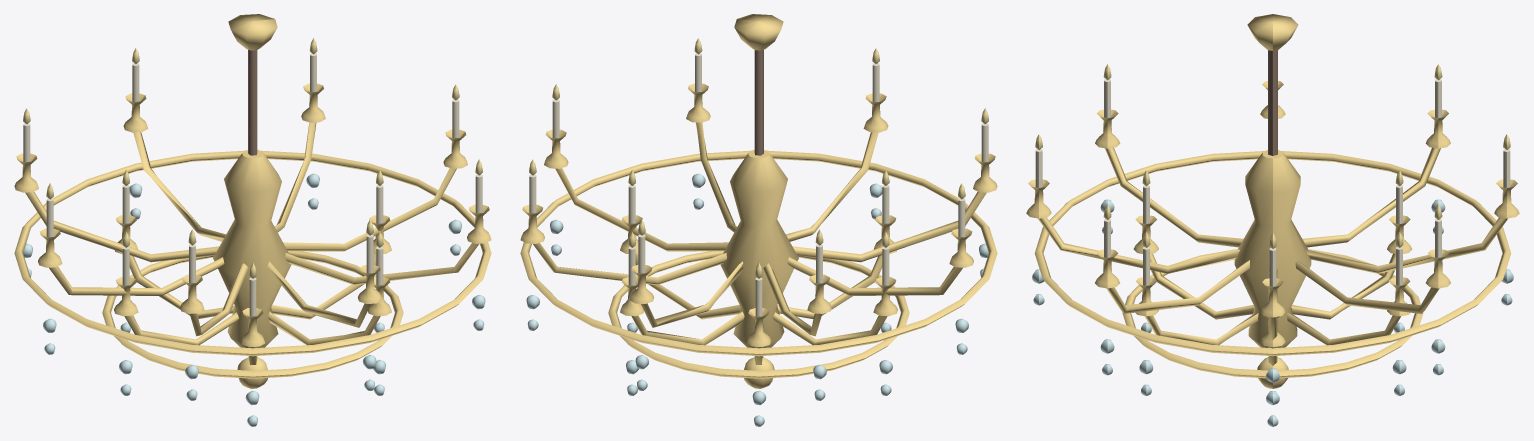
Rendered from kajuete_kronleuchter.glb.
3 views of the same model, side by side, from view 1: azimuth 30°, elevation 25°; view 2: azimuth 150°, elevation 25°; view 3: azimuth 270°, elevation 25° (orthographic).
Visible parts, largest first — view 1: G_kajuete_kronleuchter; view 2: G_kajuete_kronleuchter; view 3: G_kajuete_kronleuchter.
Part boxes in pixels (left/top/right/bottom): G_kajuete_kronleuchter: left=14, top=14, right=491, bottom=426; G_kajuete_kronleuchter: left=520, top=14, right=997, bottom=426; G_kajuete_kronleuchter: left=1026, top=14, right=1519, bottom=426.
Size of the model in its own units: 1.35 by 1.11 by 1.35.
